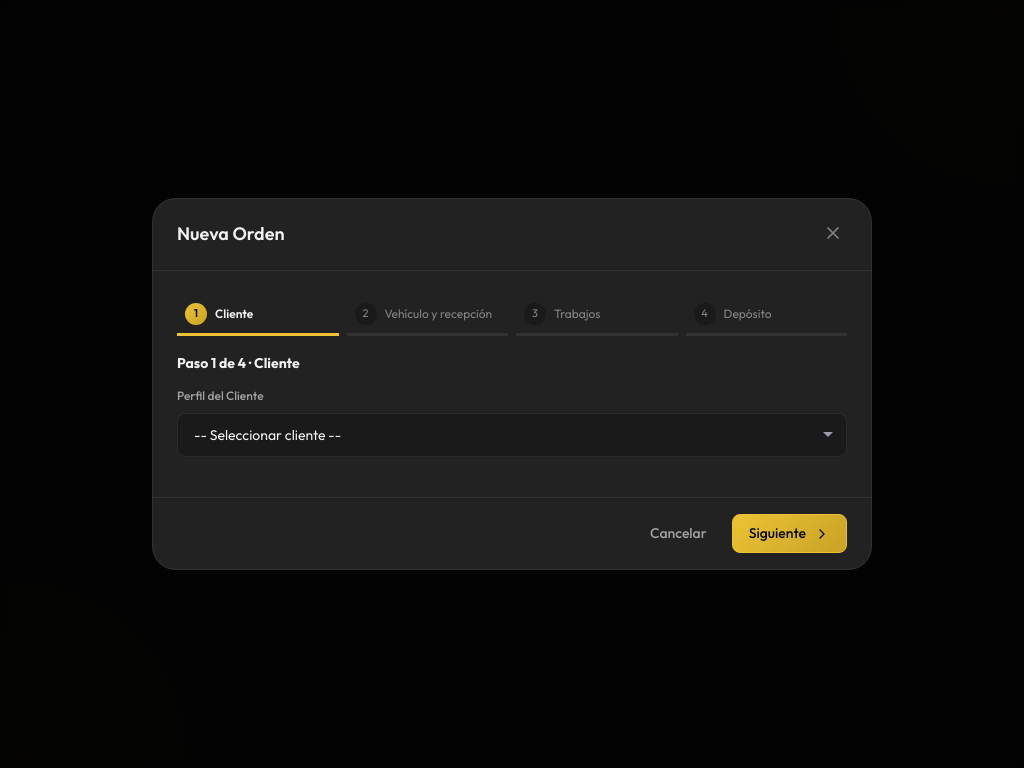
Test case: WorkOrderCreateModal - Assistant (Wizard) › la casilla de autorizar en recepcion no sale sin lineas y si sale con una
// Paso 1: Cliente
Select "Juan Perez" in the dropdown at (512, 435), box [177, 413, 847, 457]
Click the button "Siguiente".
click(789, 534)  # box [732, 514, 847, 553]
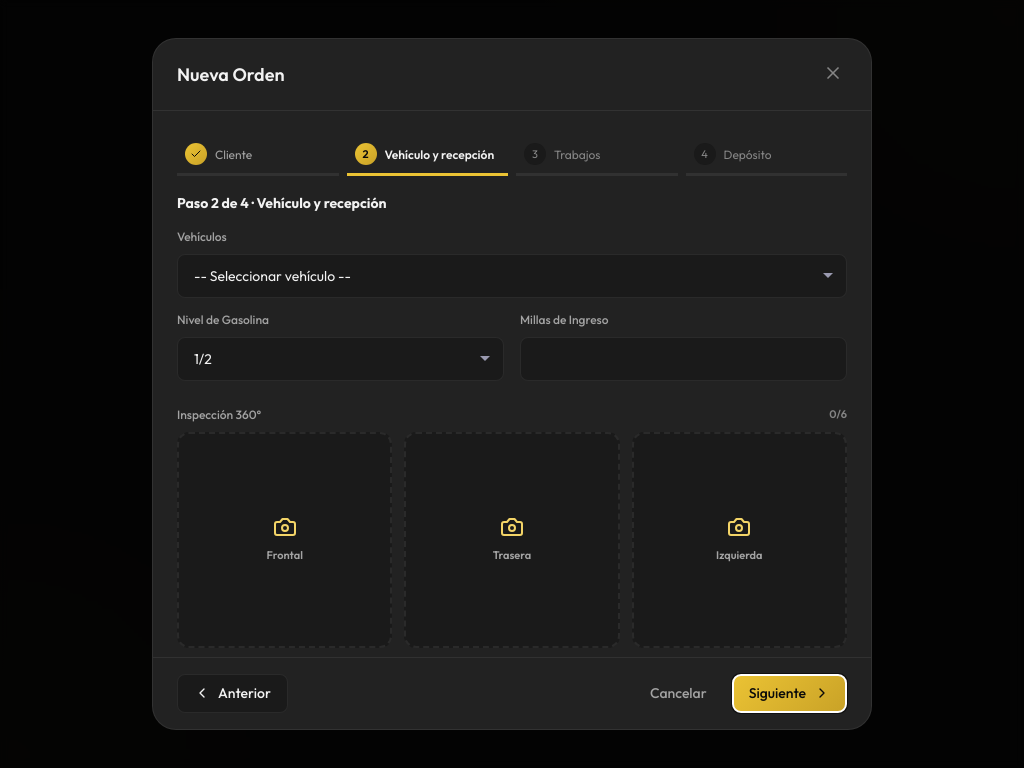
// Paso 2: Vehículo
Select "Toyota Camry (ABC1234)" in the dropdown labelled "Vehículos" at (512, 276), box [177, 254, 847, 298]
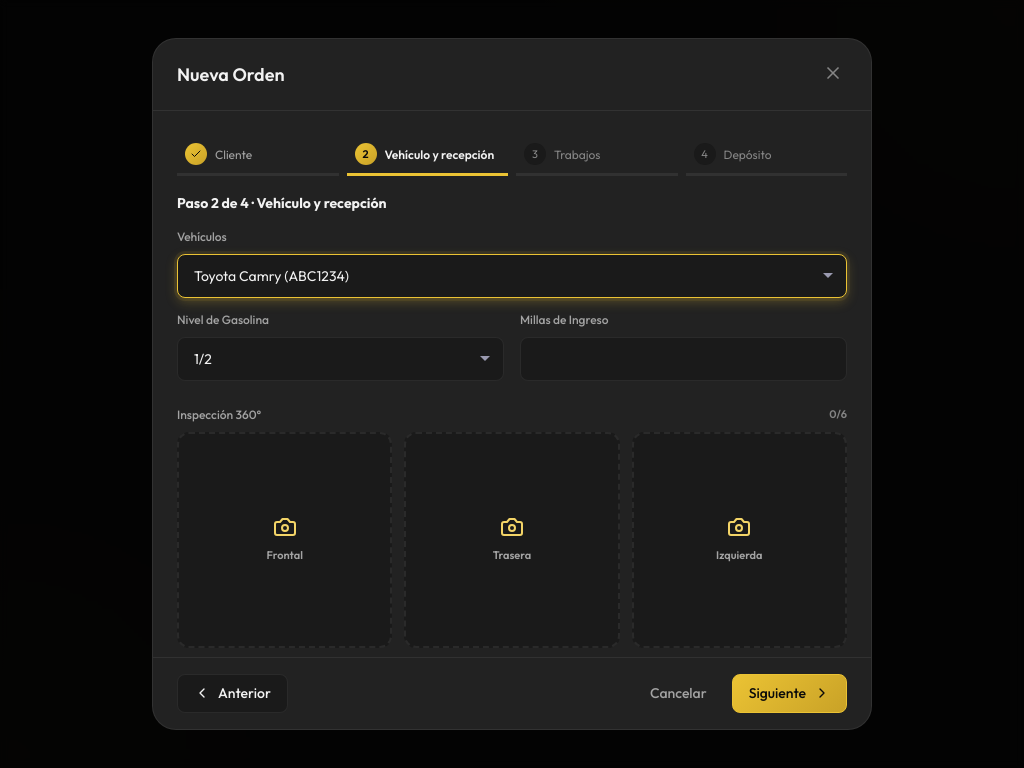
Click the button "Siguiente".
click(789, 693)  # box [732, 674, 847, 713]
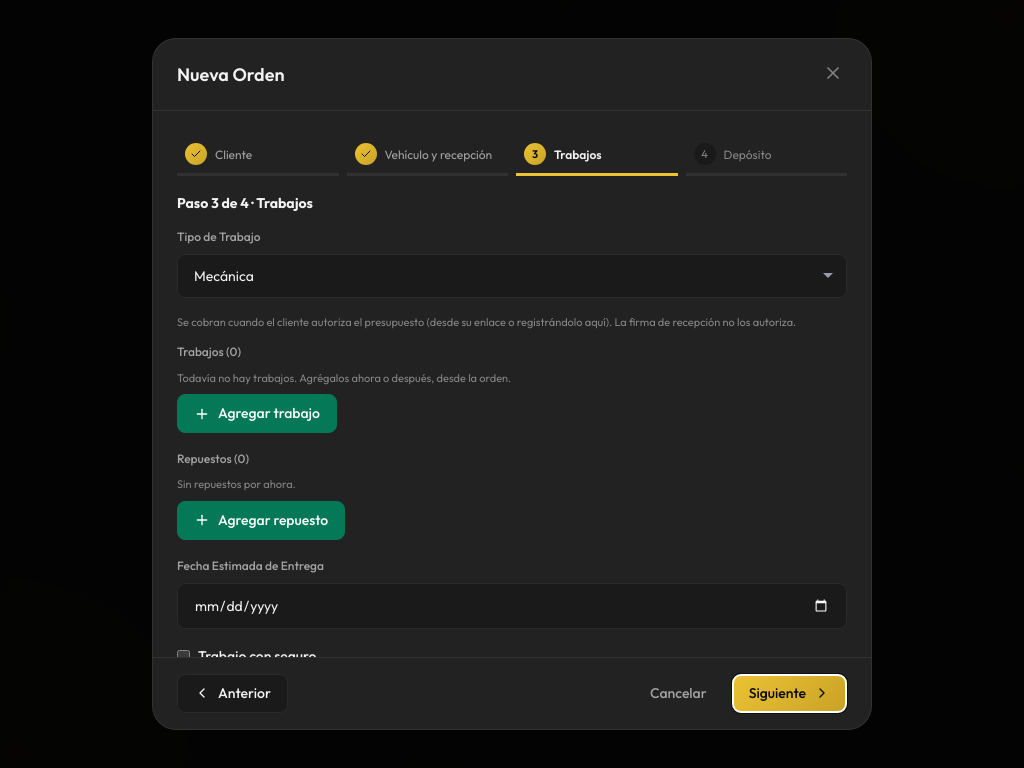
// Agregamos un trabajo
Click the button with id "create-order-open".
click(257, 414)  # box [177, 394, 337, 433]
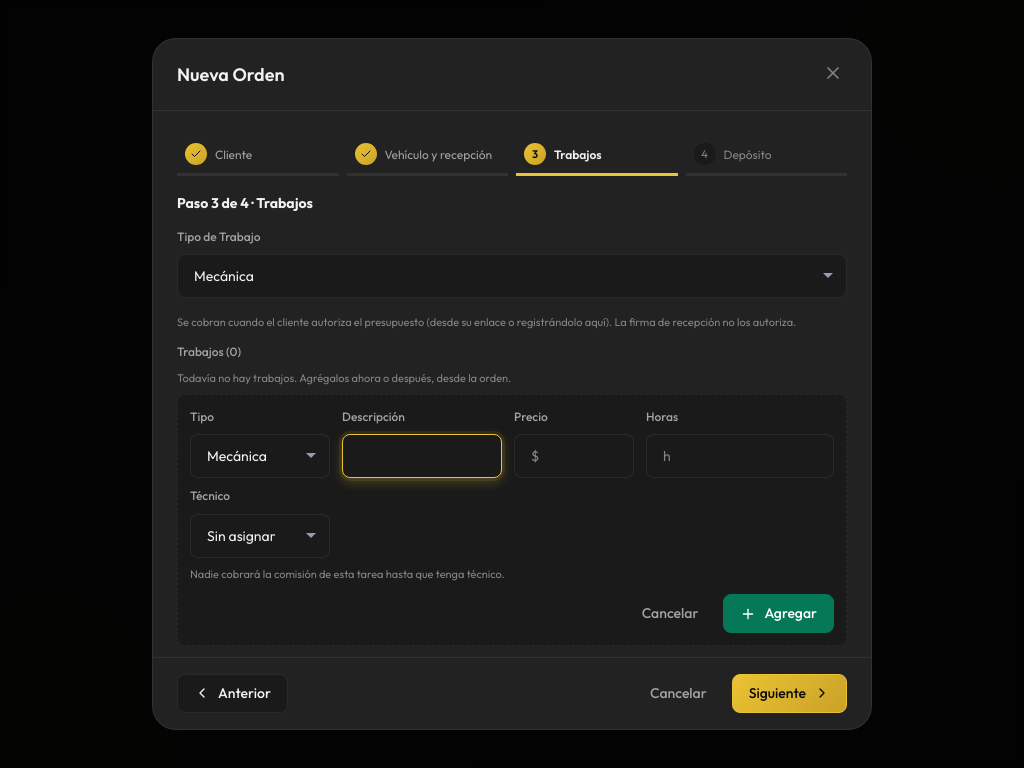
Type "Alineacion" into the field with id "create-order-description".
click(422, 456); type("Alineacion")  # box [342, 434, 502, 478]
Type "100" into the number field with id "create-order-price".
click(574, 456); type("100")  # box [514, 434, 634, 478]
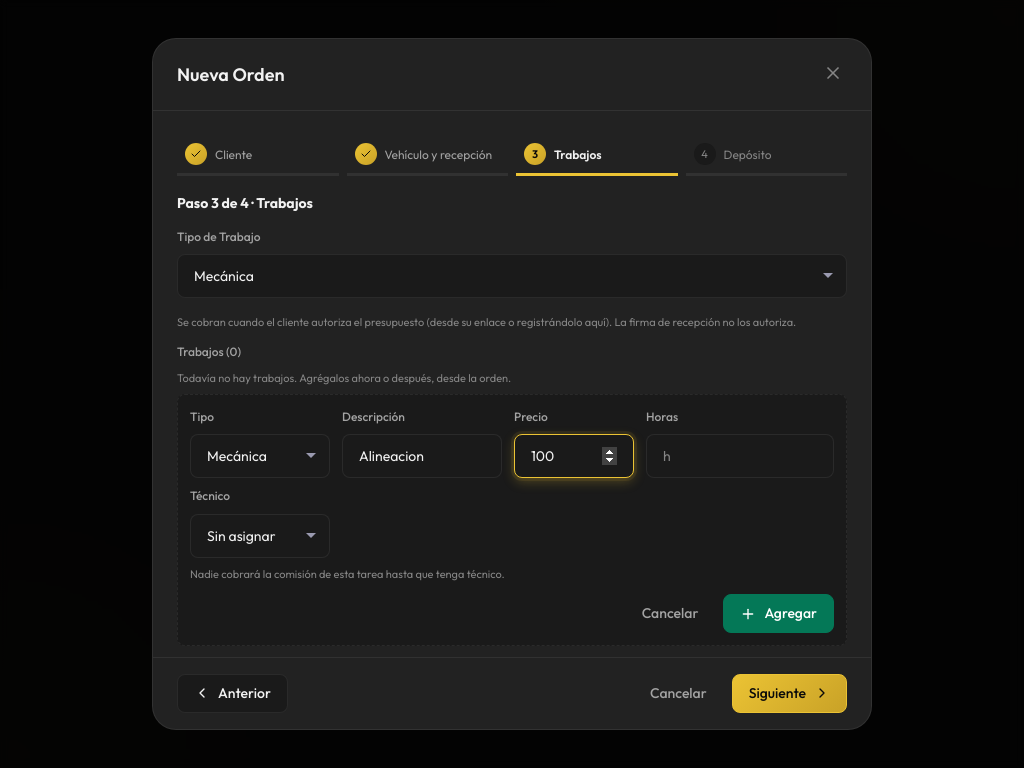
Click the button with id "create-order-submit".
click(779, 614)  # box [723, 594, 834, 633]
(page scrolled)
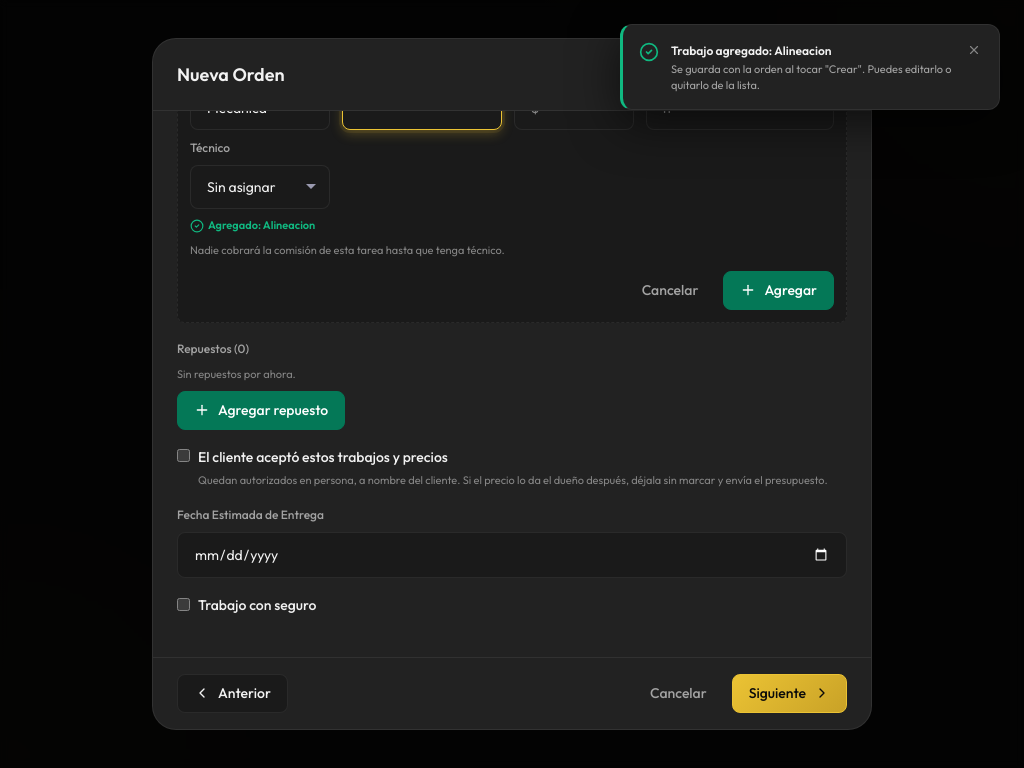
Expected: the checkbox with id "order-authorized-at-intake" is not checked, [177, 449, 190, 462]
